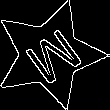M_SE: (14, 20, 85, 89)
